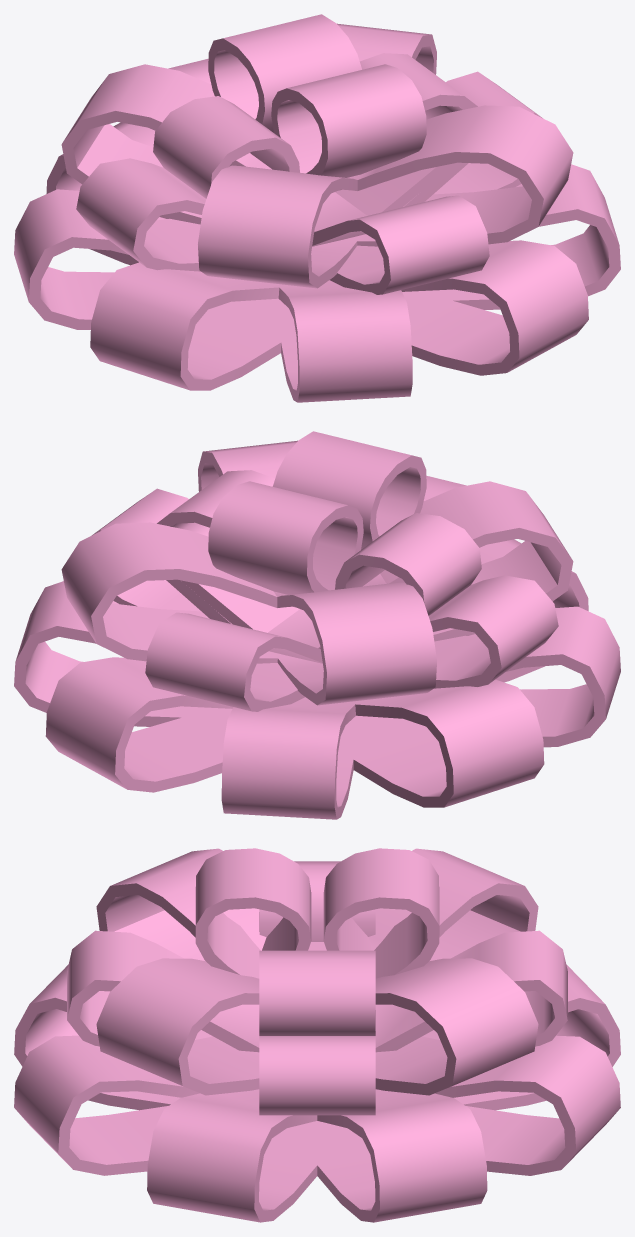
The model's file is Cake_ThemeBows_C.FBX.
The picture shows the model from 3 angles, top to bottom: view 1: azimuth 30°, elevation 25°; view 2: azimuth 150°, elevation 25°; view 3: azimuth 270°, elevation 25°; orthographic projection.
Visible parts, largest first — view 1: Cake_ThemeBows_C; view 2: Cake_ThemeBows_C; view 3: Cake_ThemeBows_C.
Part boxes in pixels (left/top/right/bottom): Cake_ThemeBows_C: left=14, top=14, right=620, bottom=402; Cake_ThemeBows_C: left=14, top=431, right=620, bottom=819; Cake_ThemeBows_C: left=14, top=848, right=620, bottom=1222.
Bounding box in the file's own units: 98223 × 43342 × 98223.
